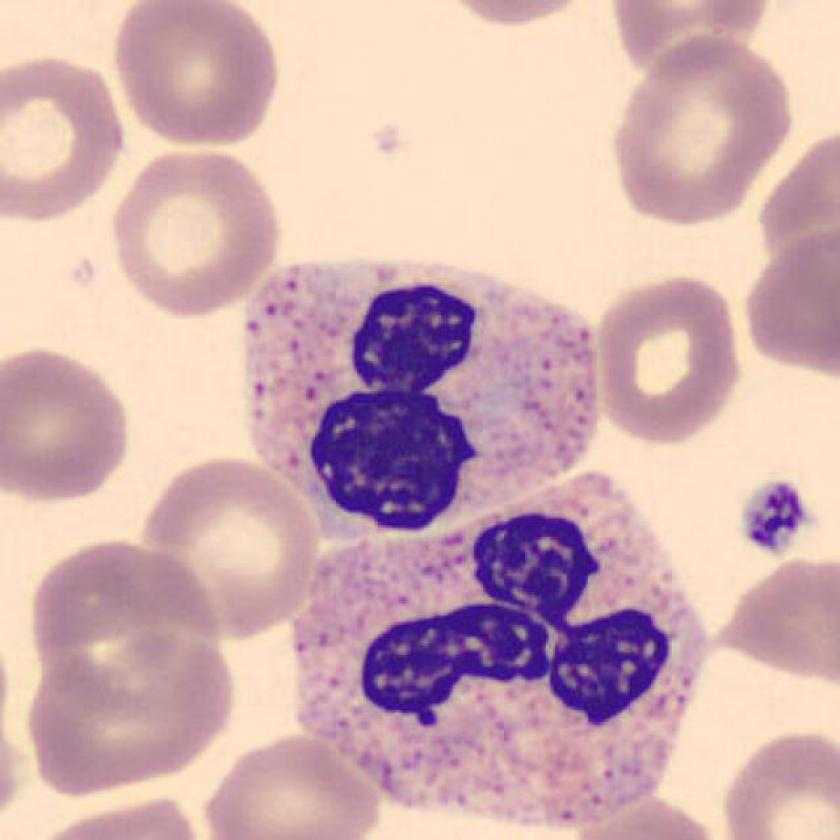neutrophil: (300, 474, 703, 826), (246, 260, 601, 537)
